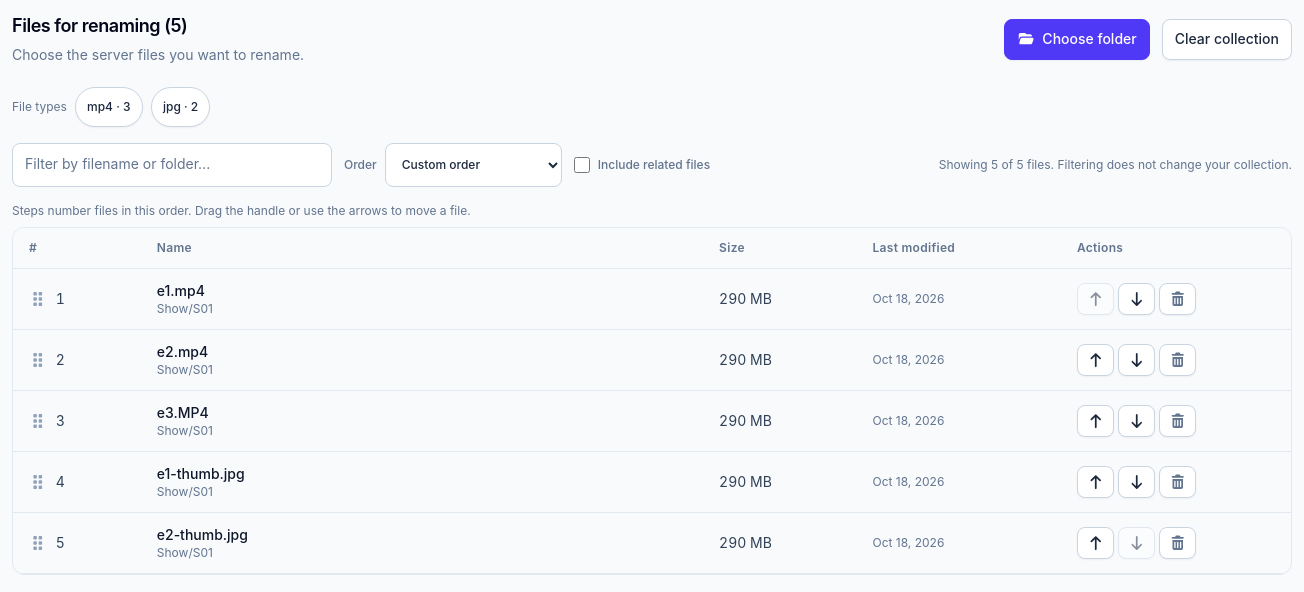
Test case: FileSelectionComponent › with a mixed collection › ordering › of single files › offers no reordering while a filter hides part of the collection
The width and height of the screenshot is (1304, 592).
In the search field with id "file-search": (172, 165) [12, 143, 332, 187], type "e1"
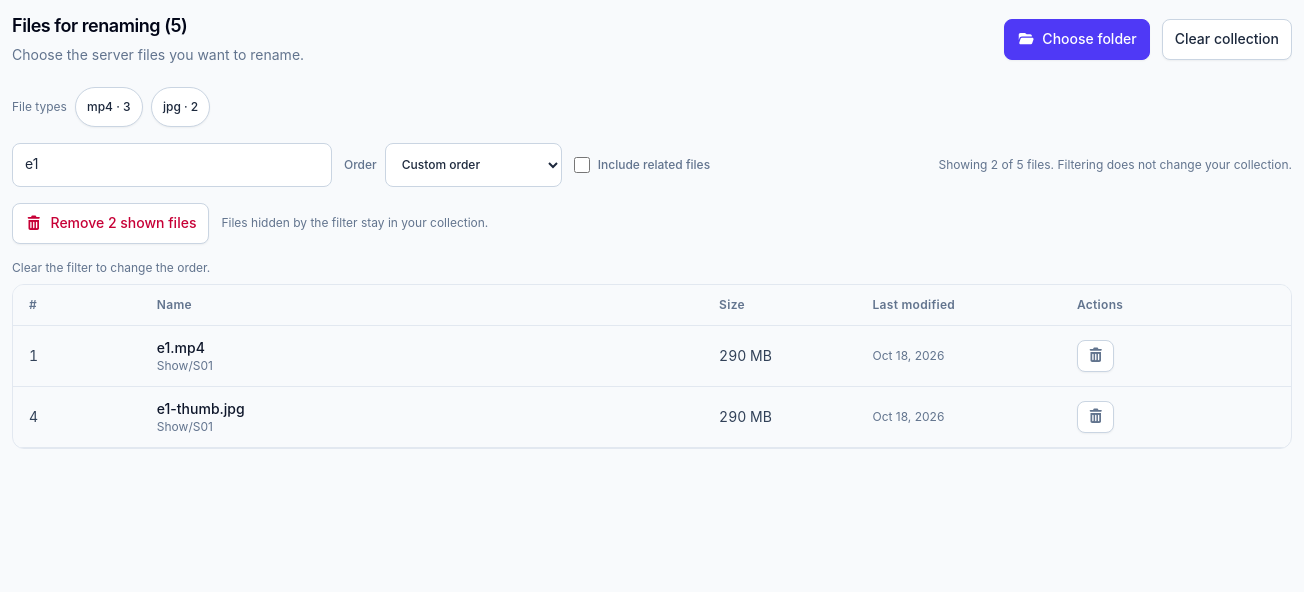
Result: the element with class "drag-handle" is gone
Result: the text "Clear the filter to change the order." is shown at [12, 260, 210, 274]
